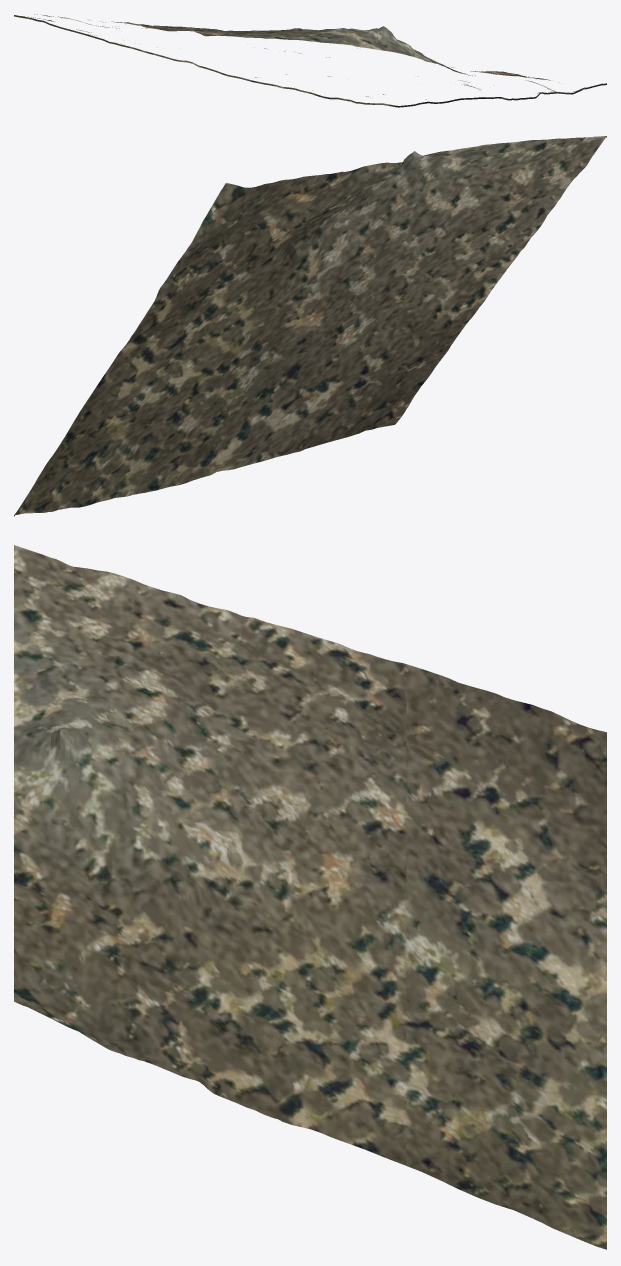
3 views of the same model, one above another, from view 1: azimuth 30°, elevation 25°; view 2: azimuth 150°, elevation 25°; view 3: azimuth 270°, elevation 25° (orthographic). The views are drawn at different scales.
Bounding box in the file's own units: 250 × 200 × 241.
Materials: 1 (1 with a texture image).
